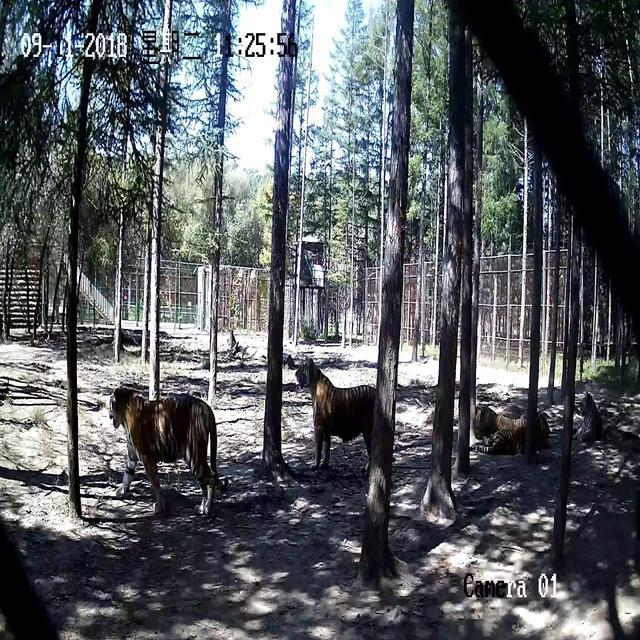tiger: (107, 383, 224, 517), (293, 356, 379, 474), (471, 403, 550, 455), (573, 391, 603, 443)
